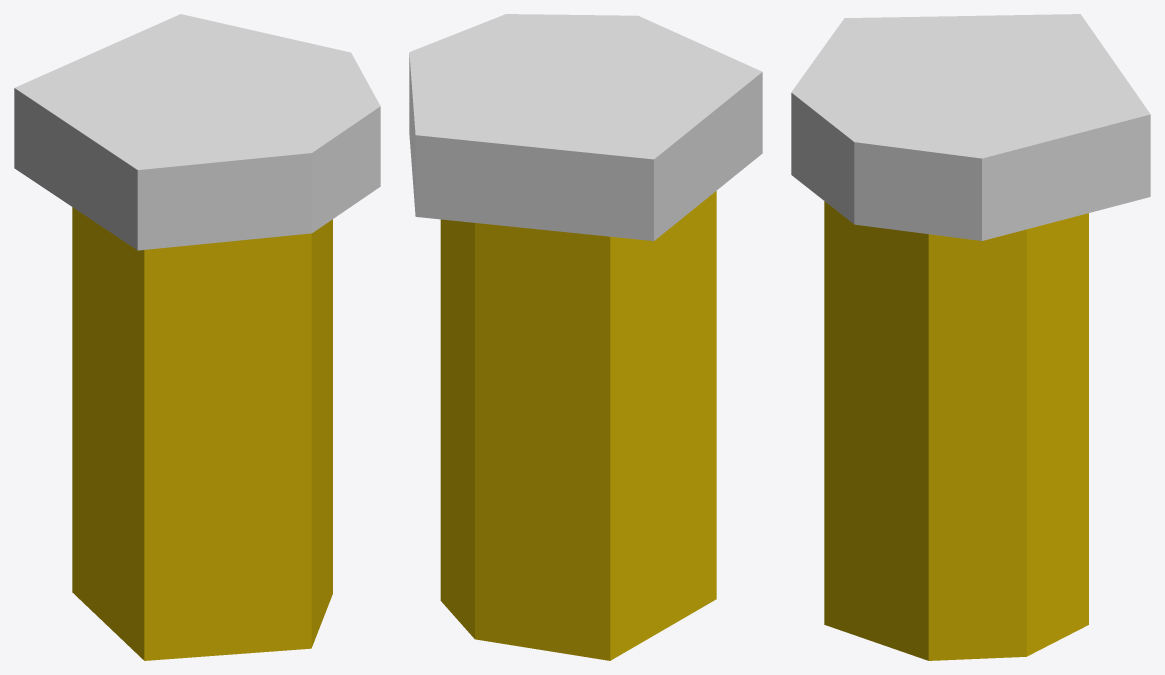
The model's file is medicine.glb.
3 renders of one model, left to right at view 1: azimuth 30°, elevation 25°; view 2: azimuth 150°, elevation 25°; view 3: azimuth 270°, elevation 25°, orthographic. The views are drawn at different scales.
Visible parts, largest first — view 1: Cylinder; view 2: Cylinder; view 3: Cylinder.
Part boxes in pixels (x1,y1,x2,y2): Cylinder: (14,14,380,660); Cylinder: (409,14,762,660); Cylinder: (791,14,1150,660).
Size of the model in its own units: 0.0866 by 0.1465 by 0.091.
